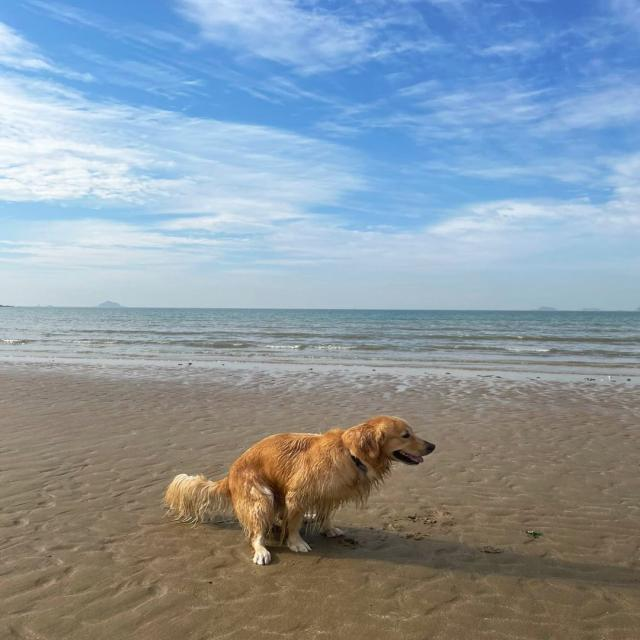squatting: (161, 413, 442, 568)
